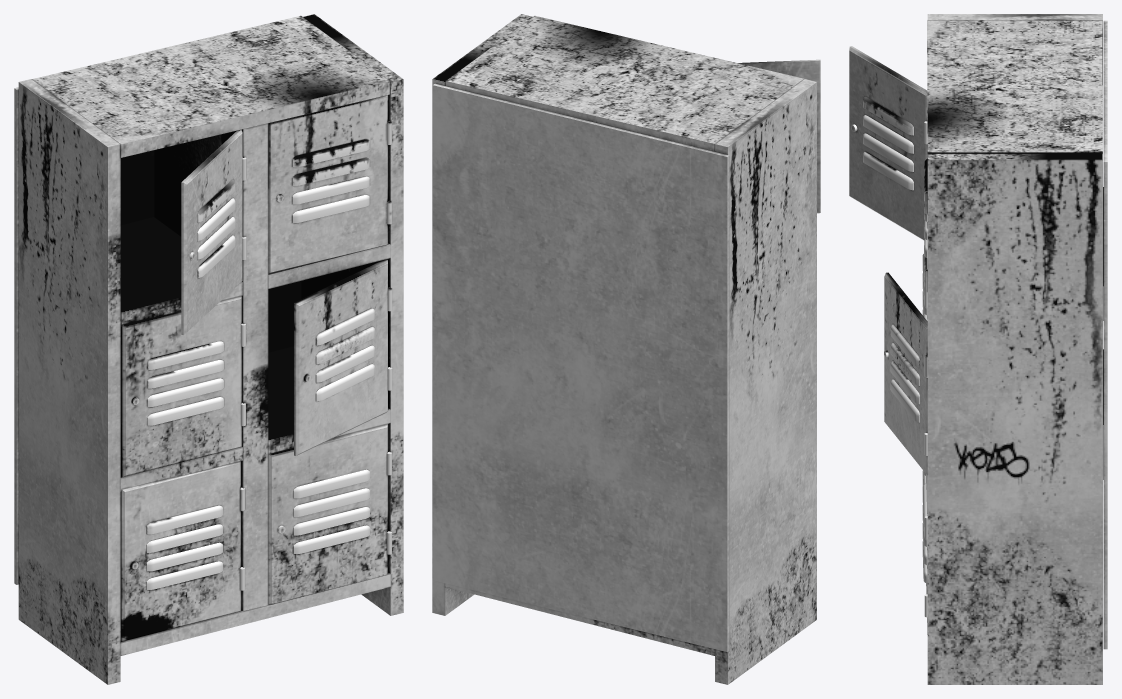
The model's file is gabinete.obj.
3 views of the same model, side by side, from view 1: azimuth 30°, elevation 25°; view 2: azimuth 150°, elevation 25°; view 3: azimuth 270°, elevation 25° (orthographic).
Visible parts, largest first — view 1: safa_pisla_coata_i_maya; view 2: safa_pisla_coata_i_maya; view 3: safa_pisla_coata_i_maya.
Boxes of the visible parts, x1,y1,x2,y2 form: safa_pisla_coata_i_maya: [14, 14, 403, 684]; safa_pisla_coata_i_maya: [432, 14, 820, 684]; safa_pisla_coata_i_maya: [849, 14, 1107, 684].
Bounding box in the file's own units: 6.44 × 11.11 × 4.92.
Materials: 1 (1 with a texture image).
